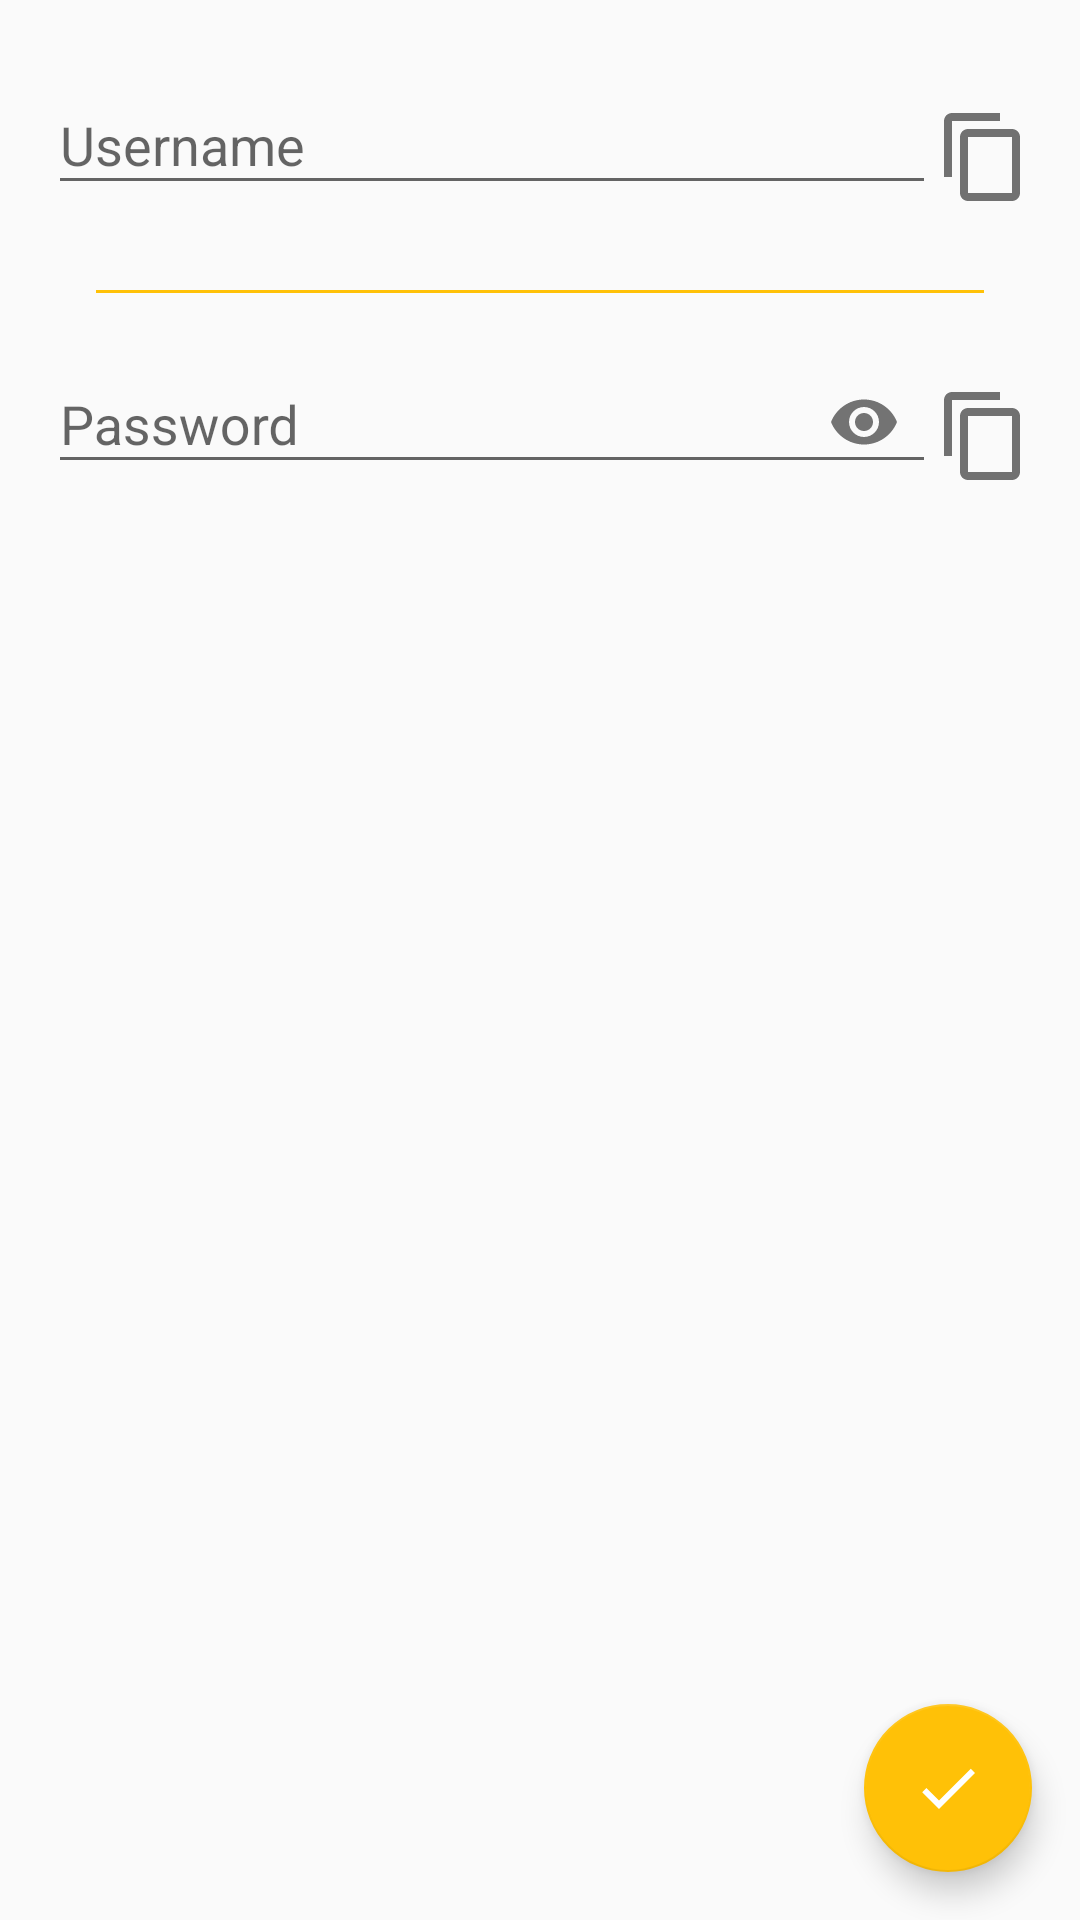

Icon bounding boxes for this 1080 × 1920 phone screenshot, format (x1, y1, x2, y2):
save: (864, 1704, 1034, 1889)
